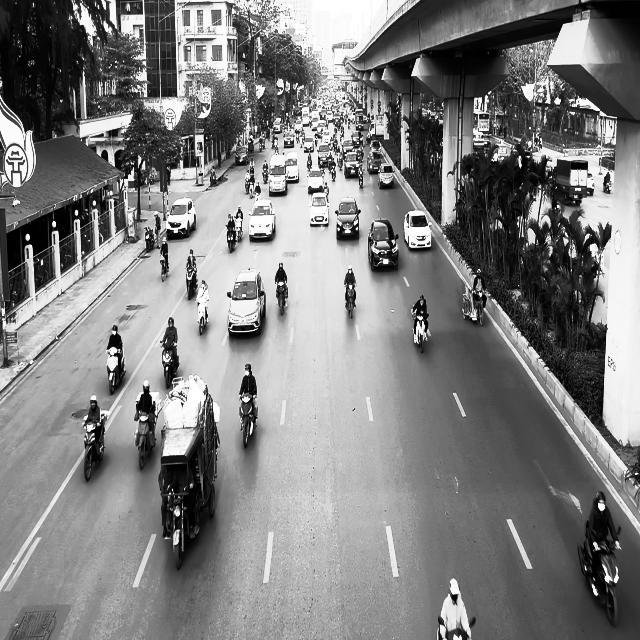car: (227, 267, 266, 336), (368, 218, 398, 270), (166, 197, 196, 239), (334, 196, 360, 240), (403, 210, 432, 249), (248, 199, 275, 240), (308, 191, 329, 226), (284, 152, 300, 182), (307, 166, 324, 193), (344, 151, 361, 178), (378, 162, 394, 188), (366, 151, 382, 173), (235, 145, 248, 165)
motorbike: (577, 521, 622, 626), (133, 394, 160, 469), (82, 414, 106, 481), (106, 343, 126, 395), (239, 392, 257, 448), (160, 340, 178, 388), (412, 307, 428, 353), (185, 265, 198, 300), (275, 280, 288, 314), (197, 299, 209, 335), (344, 282, 356, 318), (225, 224, 237, 252), (144, 226, 155, 251), (160, 253, 168, 282), (235, 216, 243, 241), (358, 164, 363, 187)
truck: (159, 374, 220, 569)
